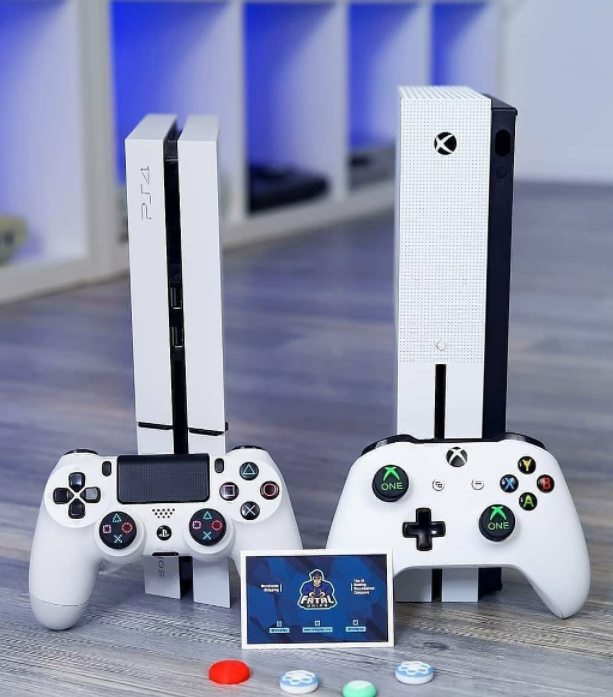gamingconsole: (33, 444, 308, 625), (333, 434, 594, 620)
